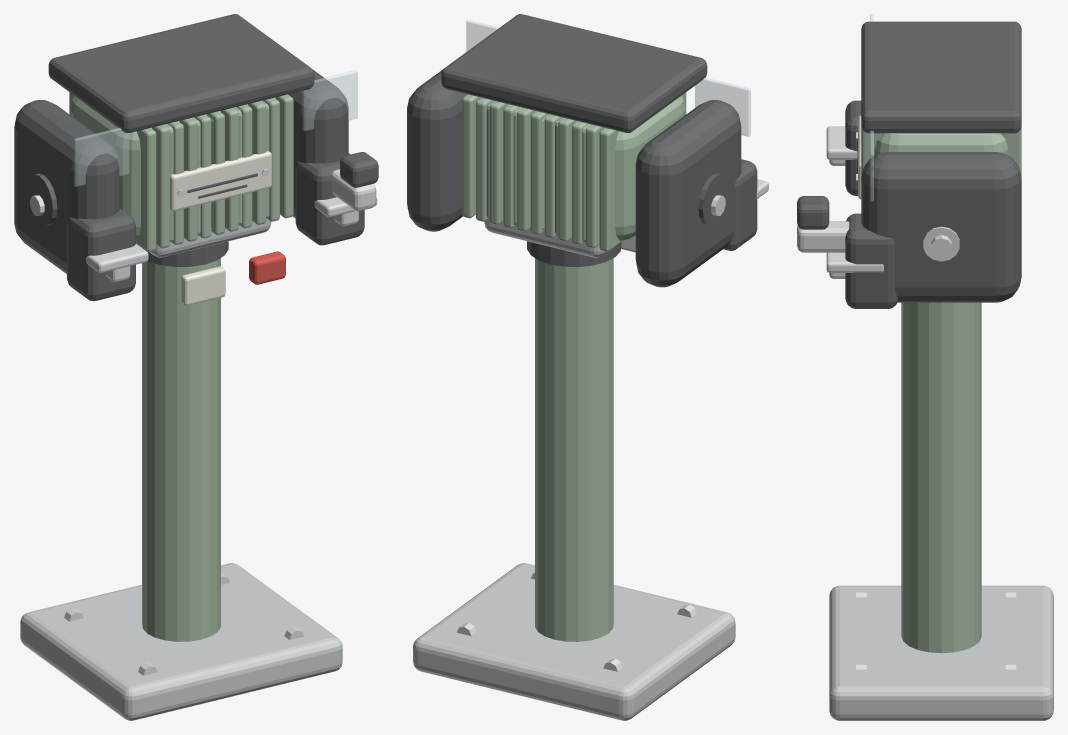
The model's file is pedestal-bench-grinder.glb.
3 renders of one model, left to right at view 1: azimuth 30°, elevation 25°; view 2: azimuth 150°, elevation 25°; view 3: azimuth 270°, elevation 25°, orthographic.
Visible parts, largest first — view 1: machine-shop-and-factory-hall-bench-grinder; view 2: machine-shop-and-factory-hall-bench-grinder; view 3: machine-shop-and-factory-hall-bench-grinder, wheel-spin/steel.
Part boxes in pixels (x1=…): machine-shop-and-factory-hall-bench-grinder: x1=14, y1=14, x2=378, y2=720; machine-shop-and-factory-hall-bench-grinder: x1=407, y1=14, x2=768, y2=720; machine-shop-and-factory-hall-bench-grinder: x1=797, y1=14, x2=1053, y2=720; wheel-spin/steel: x1=923, y1=226, x2=959, y2=261.
Bounding box in the file's own units: 0.64 × 1.25 × 0.48.
